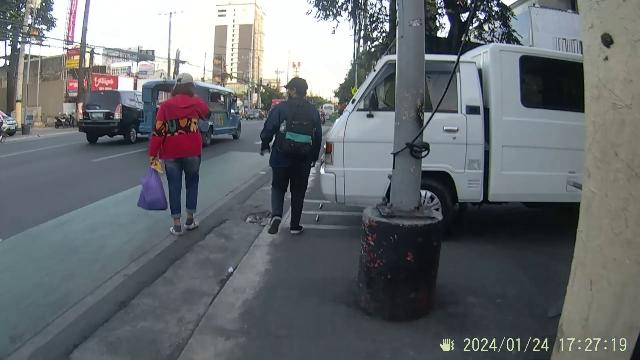utility_post: (369, 0, 443, 324)
